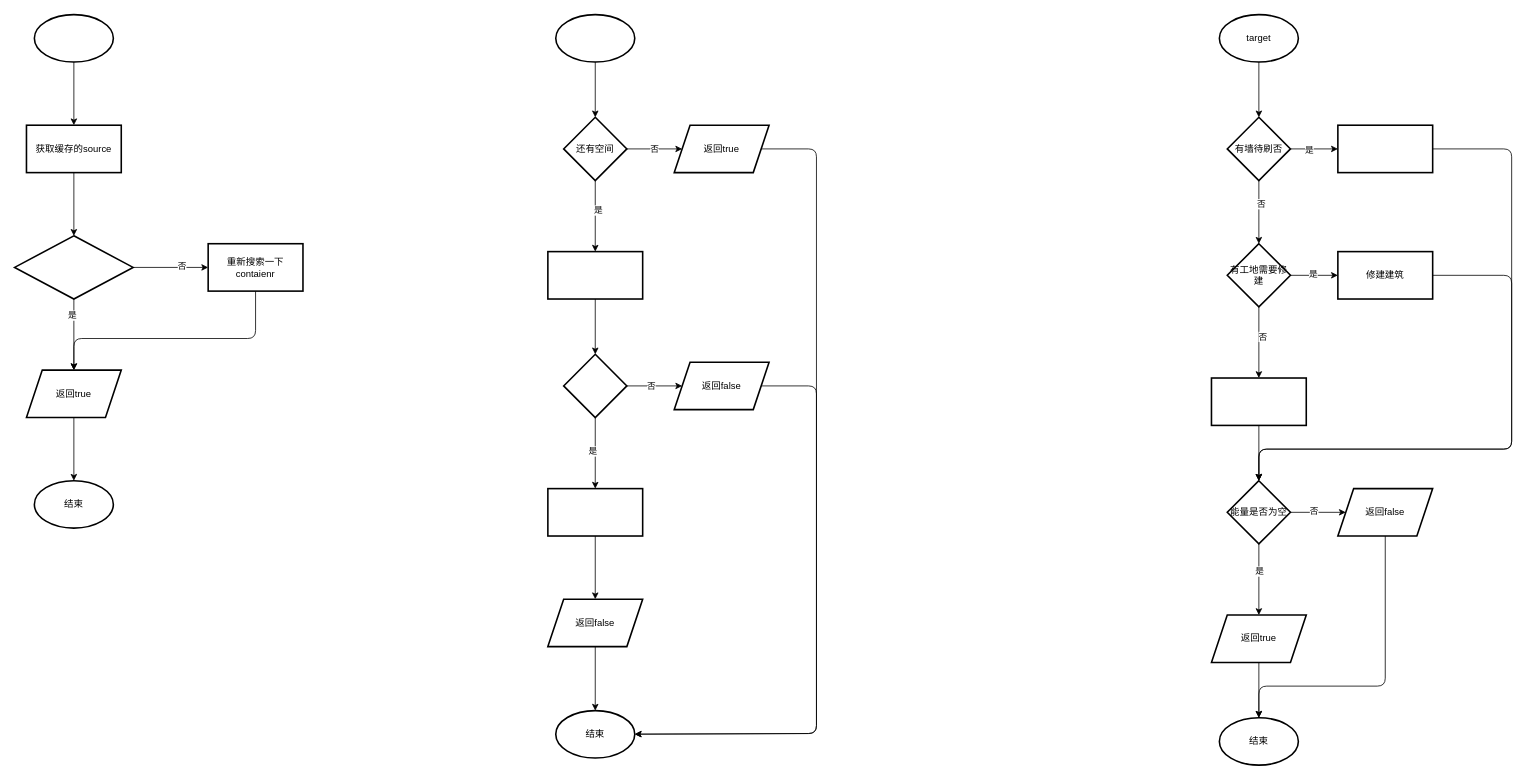
This 1532x779 diagram has some shape labels left out. Each missing label, with the centre of its shape:
"prepare" goes at (x=73, y=37).
"souce存在否" goes at (x=594, y=385).
"source" goes at (x=595, y=37).
"source不存在或者souce不是container" goes at (x=73, y=267).
"刷墙" goes at (x=1385, y=148).
"取缓存source" goes at (x=595, y=274).
"进行升级cotroller" goes at (x=1258, y=401).
"采集能量" goes at (x=595, y=511).
